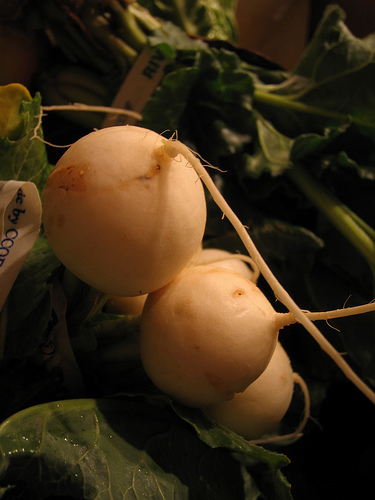turnip: (141, 250, 373, 396), (43, 125, 205, 298)
